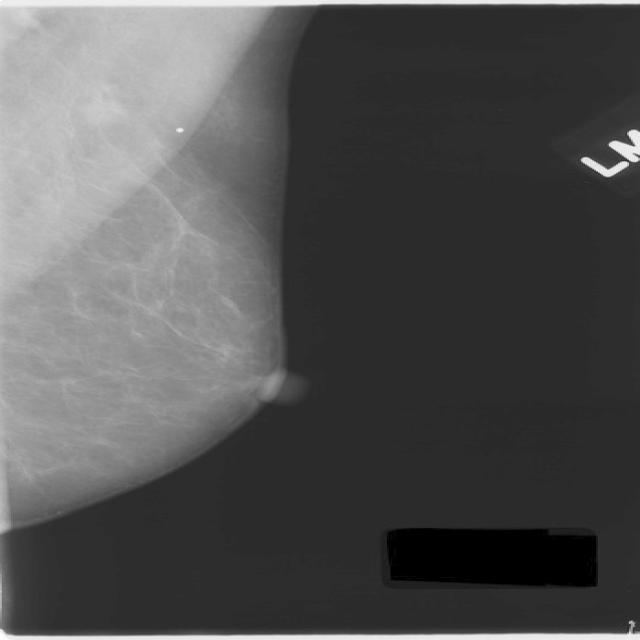tumour: (73, 90, 123, 126)
